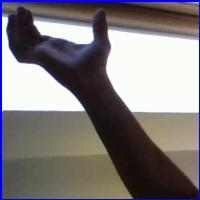space: (1, 3, 127, 85)
